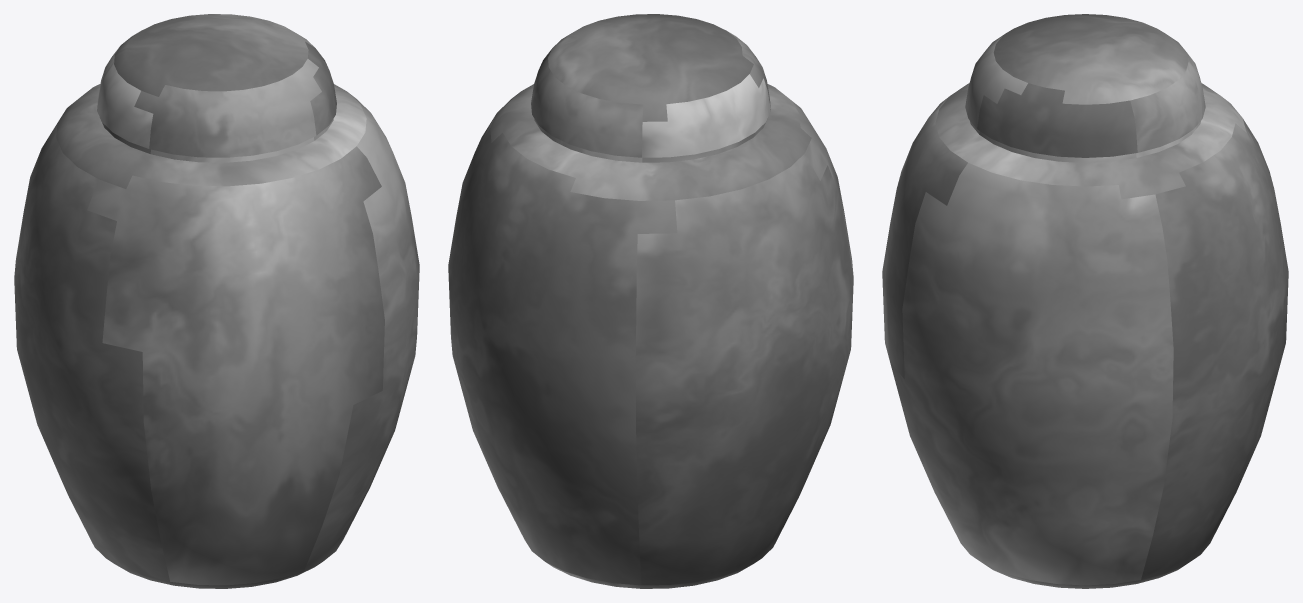
The model's file is SM_vase_01.fbx.
3 views of the same model, side by side, from view 1: azimuth 30°, elevation 25°; view 2: azimuth 150°, elevation 25°; view 3: azimuth 270°, elevation 25° (orthographic).
Parts seen in each view (by area): view 1: SM_vase_01; view 2: SM_vase_01; view 3: SM_vase_01.
Boxes of the visible parts, x1,y1,x2,y2 form: SM_vase_01: [14, 14, 419, 588]; SM_vase_01: [448, 14, 853, 588]; SM_vase_01: [882, 14, 1288, 588].
Size of the model in its own units: 60.63 by 60.63 by 82.27.
Materials: 1 (1 with a texture image).
